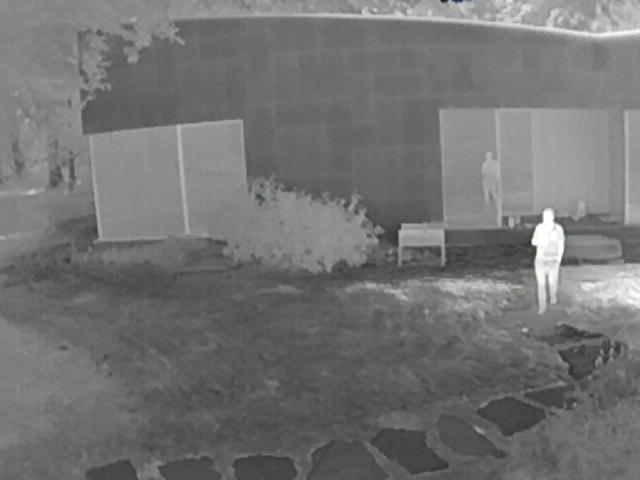person: (532, 206, 566, 314), (479, 151, 499, 207)
